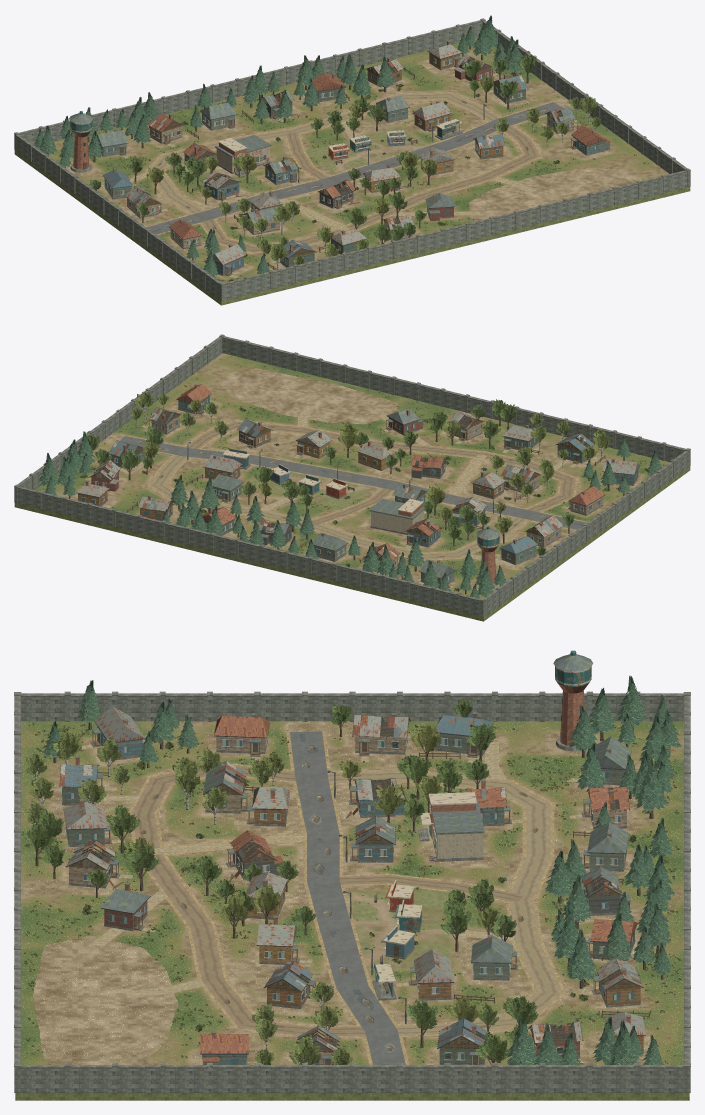
The model's file is Sosnovka_Market_Path.glb.
3 renders of one model, top to bottom at view 1: azimuth 30°, elevation 25°; view 2: azimuth 150°, elevation 25°; view 3: azimuth 270°, elevation 25°, orthographic. The views are drawn at different scales.
Parts seen in each view (by area): view 1: Земля · 152 × 116 м, Улицы · кольца, площадь и проходы, Ограда · юг, Ограда · север, Ограда · запад, Ограда · восток, Тропинка между ларьками, Сельский клуб · кирпичный портал, Водонапорная башня · западный сад, Изба 13 · Лён, Изба 19 · Мёд, Изба 24 · Шалфей (+13 smaller); view 2: Земля · 152 × 116 м, Улицы · кольца, площадь и проходы, Ограда · север, Ограда · юг, Ограда · запад, Ограда · восток, Сельский клуб · кирпичный портал, Тропинка между ларьками, Водонапорная башня · западный сад, Изба 16 · Шалфей, Изба 11 · Охра, Изба 24 · Шалфей (+13 smaller); view 3: Земля · 152 × 116 м, Улицы · кольца, площадь и проходы, Ограда · восток, Ограда · запад, Тропинка между ларьками, Сельский клуб · кирпичный портал, Ограда · север, Ограда · юг, Водонапорная башня · западный сад, Изба 06 · Лён, Изба 01 · Мёд, Изба 19 · Мёд (+57 smaller).
Boxes of the visible parts, x1,y1,x2,y2 form: Земля · 152 × 116 м: [14, 38, 690, 305]; Улицы · кольца, площадь и проходы: [101, 92, 563, 253]; Ограда · юг: [219, 168, 690, 300]; Ограда · север: [14, 18, 485, 150]; Ограда · запад: [15, 134, 220, 299]; Ограда · восток: [482, 20, 687, 173]; Тропинка между ларьками: [305, 126, 427, 173]; Сельский клуб · кирпичный портал: [215, 135, 271, 175]; Водонапорная башня · западный сад: [69, 111, 93, 172]; Изба 13 · Лён: [570, 125, 610, 155]; Изба 19 · Мёд: [412, 101, 451, 131]; Изба 24 · Шалфей: [200, 101, 236, 130]; Земля · 152 × 116 м: [14, 353, 690, 621]; Улицы · кольца, площадь и проходы: [120, 405, 587, 567]; Ограда · север: [14, 484, 485, 616]; Ограда · юг: [219, 334, 690, 466]; Ограда · запад: [484, 450, 689, 615]; Ограда · восток: [17, 337, 222, 489]; Сельский клуб · кирпичный портал: [369, 499, 426, 534]; Тропинка между ларьками: [245, 468, 373, 510]; Водонапорная башня · западный сад: [476, 526, 500, 586]; Изба 16 · Шалфей: [500, 536, 538, 565]; Изба 11 · Охра: [295, 429, 331, 458]; Изба 24 · Шалфей: [313, 532, 347, 561]; Земля · 152 × 116 м: [15, 721, 689, 1100]; Улицы · кольца, площадь и проходы: [91, 731, 566, 1064]; Ограда · восток: [17, 1063, 687, 1093]; Ограда · запад: [20, 691, 684, 721]; Тропинка между ларьками: [350, 889, 452, 969]; Сельский клуб · кирпичный портал: [418, 792, 484, 861]; Ограда · север: [683, 692, 690, 1092]; Ограда · юг: [14, 692, 21, 1092]; Водонапорная башня · западный сад: [553, 650, 593, 751]; Изба 06 · Лён: [214, 713, 270, 756]; Изба 01 · Мёд: [91, 706, 152, 760]; Изба 19 · Мёд: [408, 949, 453, 1000].
Size of the model in its own units: 152 by 18.99 by 116.
Materials: 54 (47 with a texture image).
